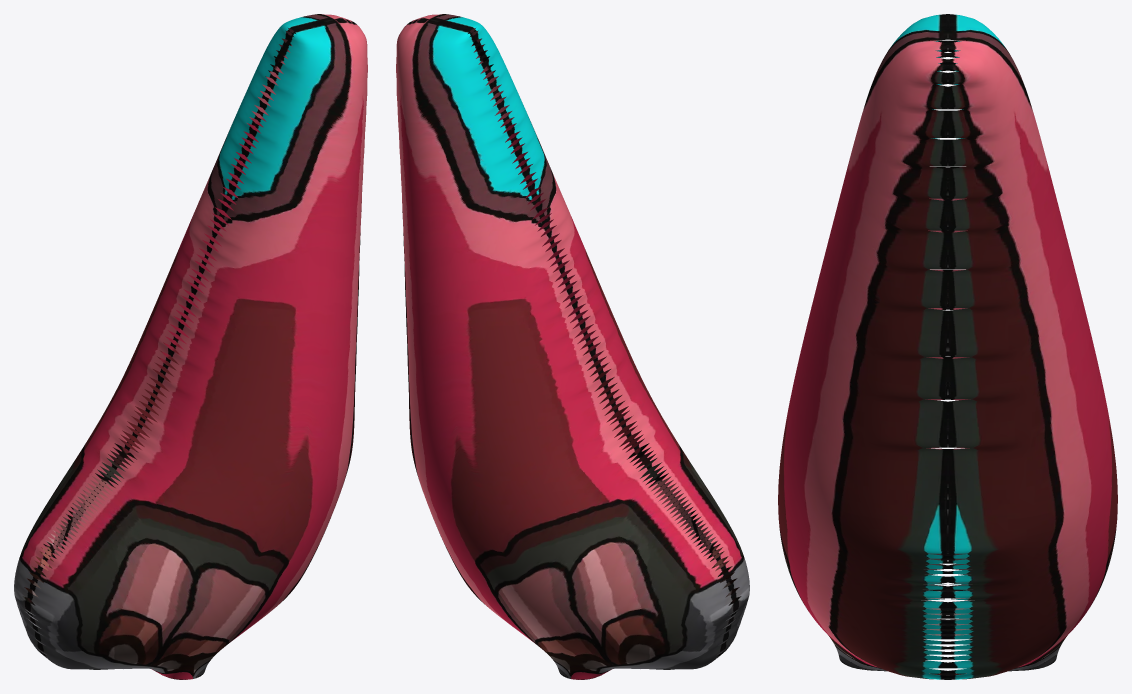
Rendered from rear_fin.glb.
3 views of the same model, side by side, from view 1: azimuth 30°, elevation 25°; view 2: azimuth 150°, elevation 25°; view 3: azimuth 270°, elevation 25° (orthographic). The views are drawn at different scales.
Visible parts, largest first — view 1: rear_fin; view 2: rear_fin; view 3: rear_fin.
Part boxes in pixels (box(x1,y1,x2,y2)): rear_fin: box(14, 14, 367, 679); rear_fin: box(396, 14, 749, 679); rear_fin: box(778, 14, 1117, 679).
Bounding box in the file's own units: 0.9816 × 1.65 × 0.695.
Materials: 1 (1 with a texture image).
